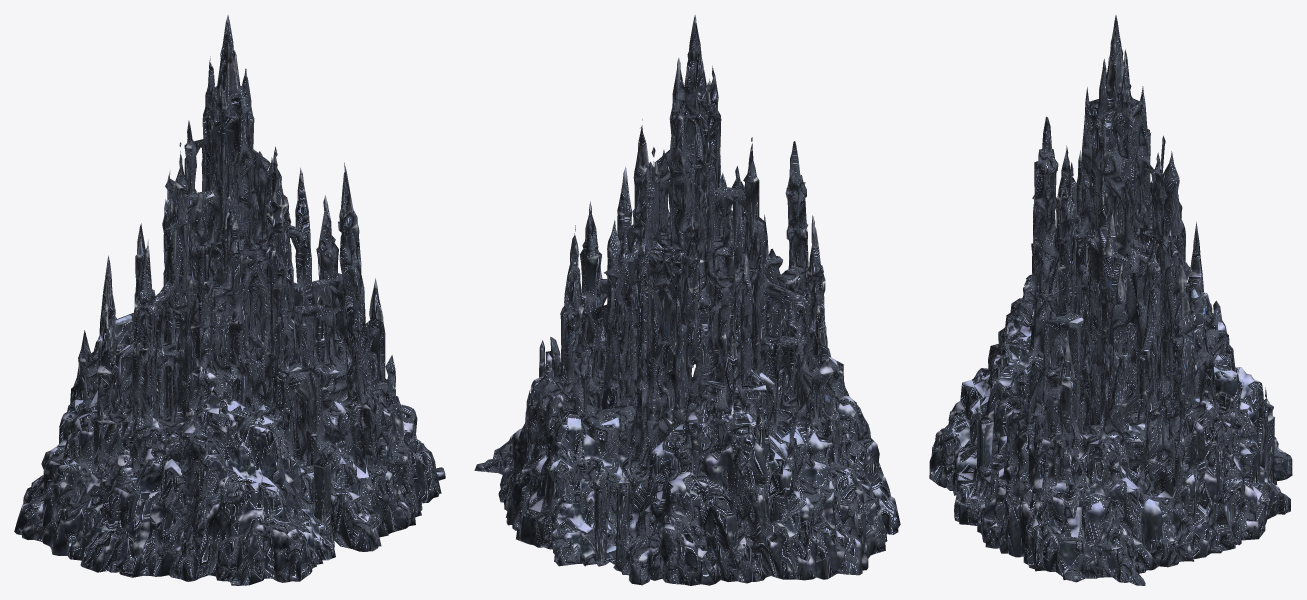
The model's file is spire-castle.glb.
3 views of the same model, side by side, from view 1: azimuth 30°, elevation 25°; view 2: azimuth 150°, elevation 25°; view 3: azimuth 270°, elevation 25° (orthographic). The views are drawn at different scales.
Size of the model in its own units: 1.59 by 1.9 by 1.31.
1 material, 1 textured.
